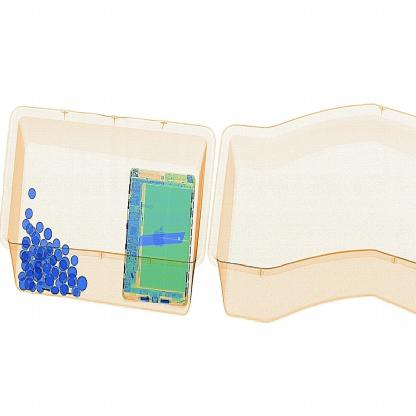pliers: (133, 222, 192, 256)
